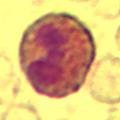monocyte: (13, 11, 99, 98)
